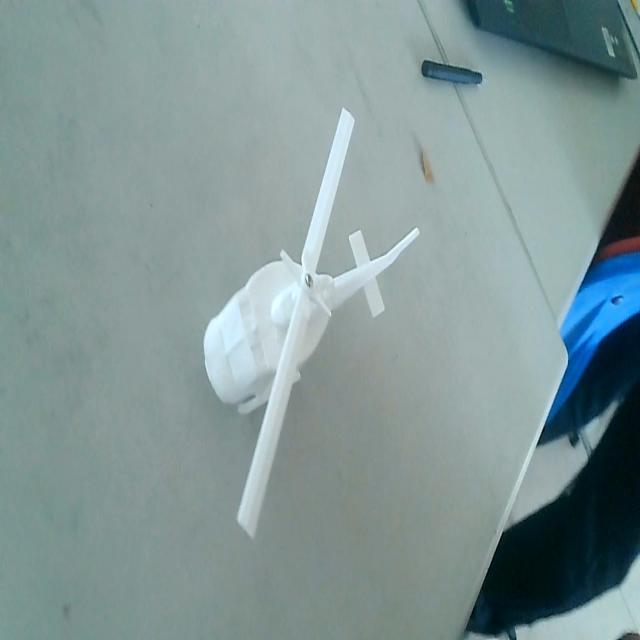Helicopter: (203, 102, 421, 539)
